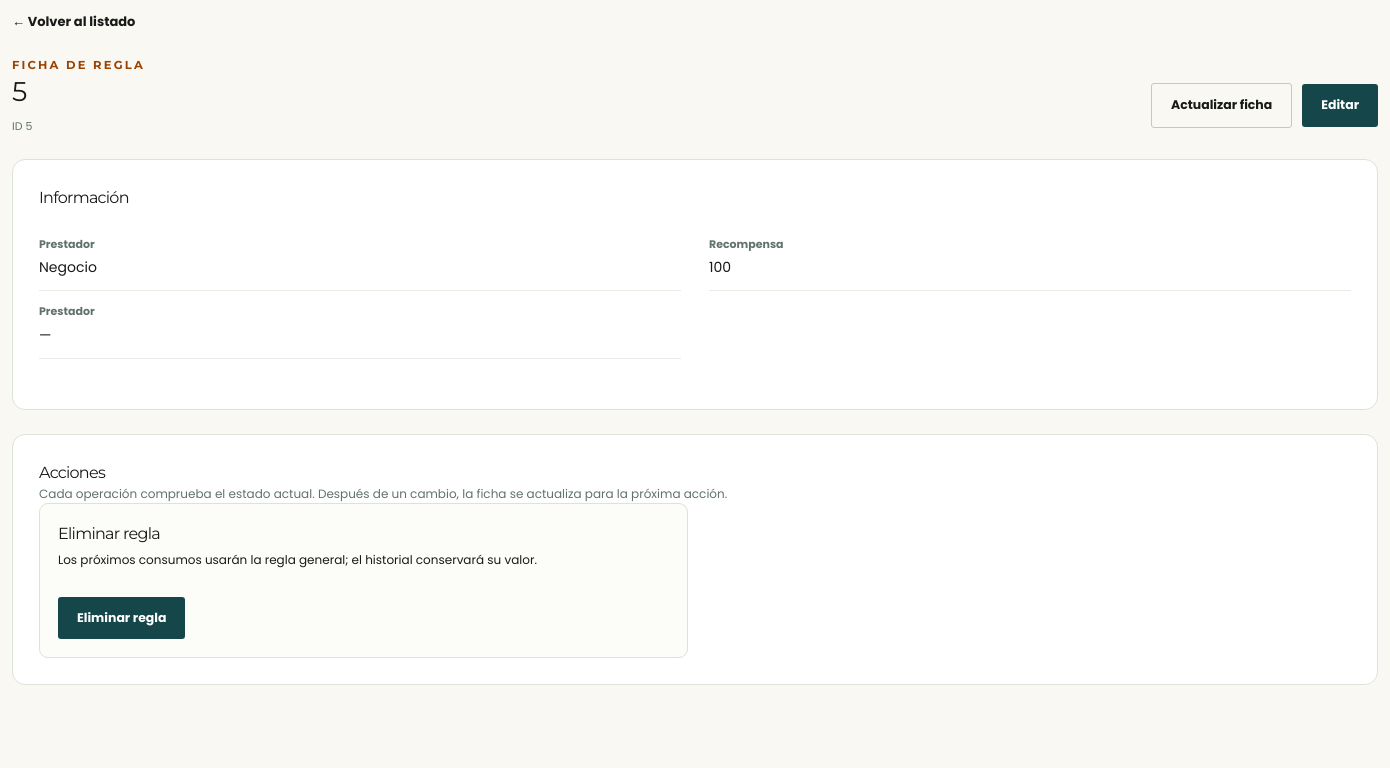
Scenario: correcciones finales del panel › elimina una regla sin pedir la ficha borrada y ofrece retorno con filtros
Click the button "Eliminar regla".
click(122, 618)  # box x1=58 y1=596 x2=186 y2=639
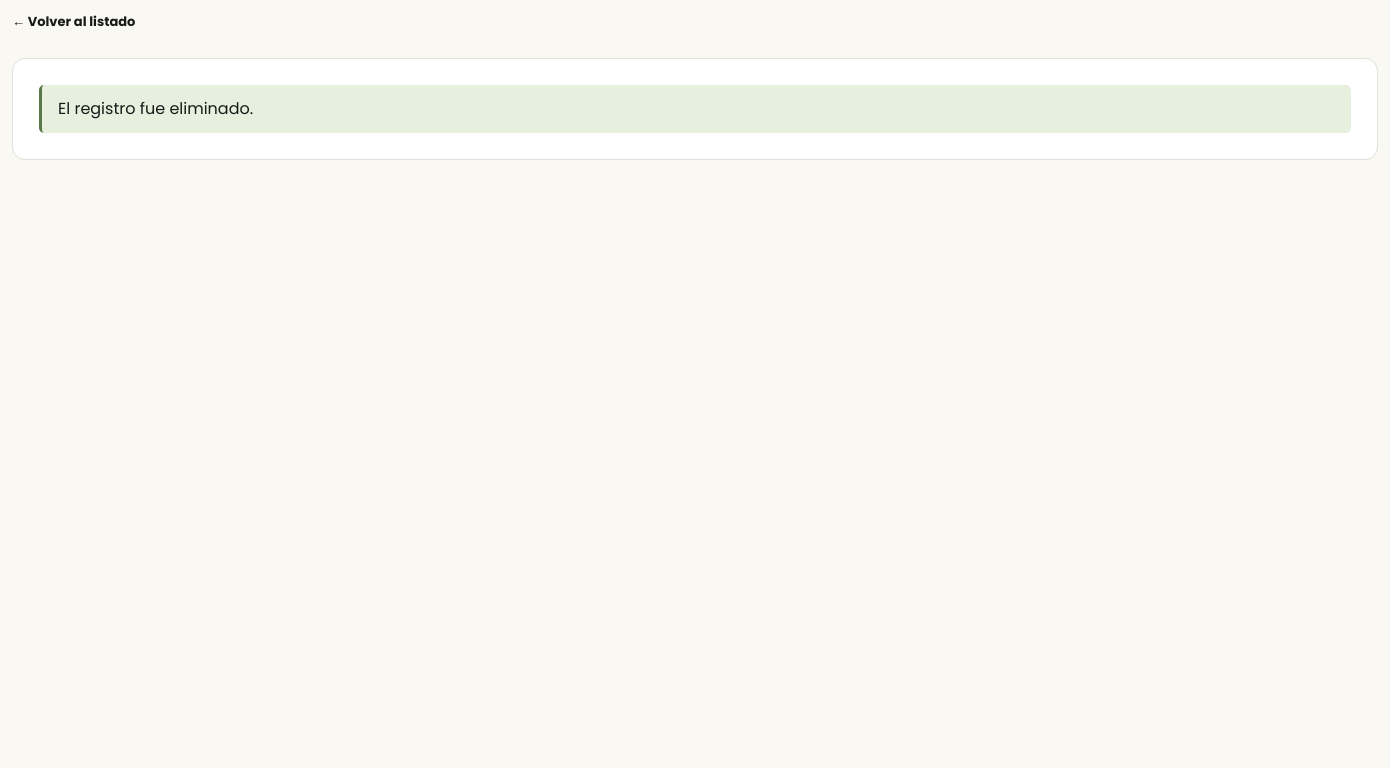
Check: the text "El registro fue eliminado." is shown, box x1=39 y1=85 x2=1351 y2=133
